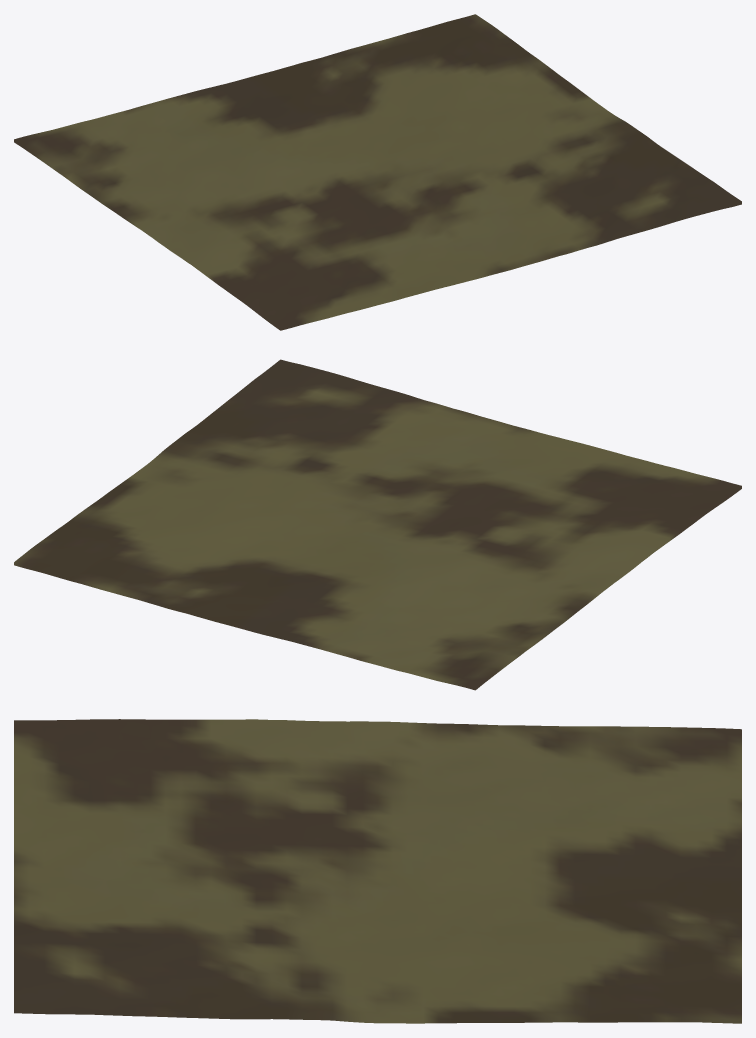
The model's file is land_m_14_05.glb.
3 views of the same model, one above another, from view 1: azimuth 30°, elevation 25°; view 2: azimuth 150°, elevation 25°; view 3: azimuth 270°, elevation 25° (orthographic). The views are drawn at different scales.
Parts seen in each view (by area): view 1: land_m_14_05; view 2: land_m_14_05; view 3: land_m_14_05.
Part boxes in pixels (x1=…): land_m_14_05: x1=14, y1=14, x2=741, y2=330; land_m_14_05: x1=14, y1=359, x2=741, y2=690; land_m_14_05: x1=14, y1=719, x2=741, y2=1023.
Size of the model in its own units: 960 by 46.41 by 960.
